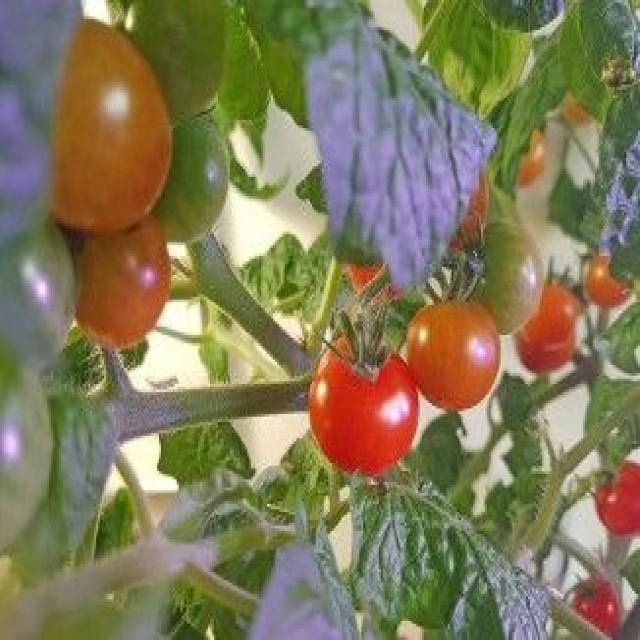level 2: (0, 162, 82, 371), (129, 96, 232, 242), (122, 0, 225, 127), (0, 324, 57, 552), (460, 219, 542, 335)
level 5: (18, 12, 172, 242), (44, 180, 173, 346), (334, 149, 405, 301), (409, 298, 499, 412), (416, 134, 491, 246), (512, 281, 582, 371), (486, 113, 548, 184), (584, 258, 631, 304)
level 6: (307, 335, 418, 477), (594, 457, 640, 533), (570, 580, 620, 639)
